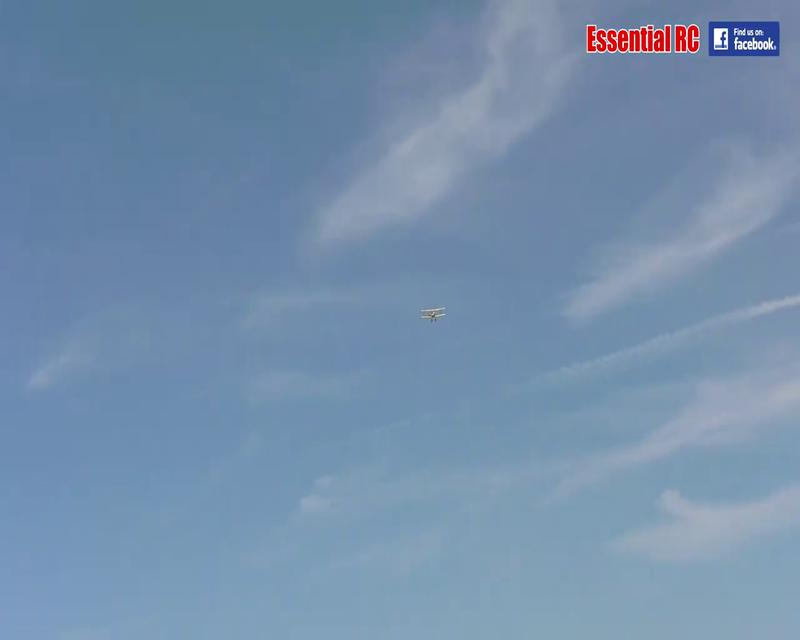UAV: (421, 308, 446, 324)
